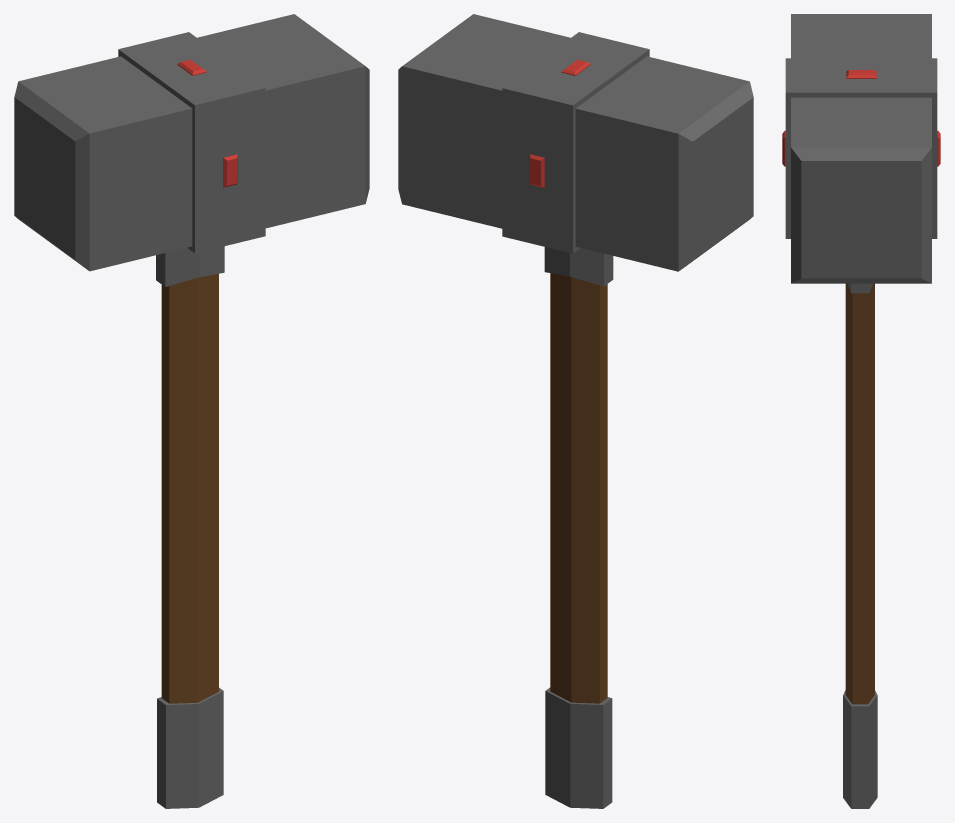
The model's file is Hammer.fbx.
3 views of the same model, side by side, from view 1: azimuth 30°, elevation 25°; view 2: azimuth 150°, elevation 25°; view 3: azimuth 270°, elevation 25° (orthographic).
Parts seen in each view (by area): view 1: marteau; view 2: marteau; view 3: marteau.
Boxes of the visible parts, x1,y1,x2,y2 form: marteau: (14, 14, 369, 808); marteau: (398, 14, 753, 808); marteau: (782, 14, 940, 808).
Bounding box in the file's own units: 29.43 × 70.2 × 13.87.
